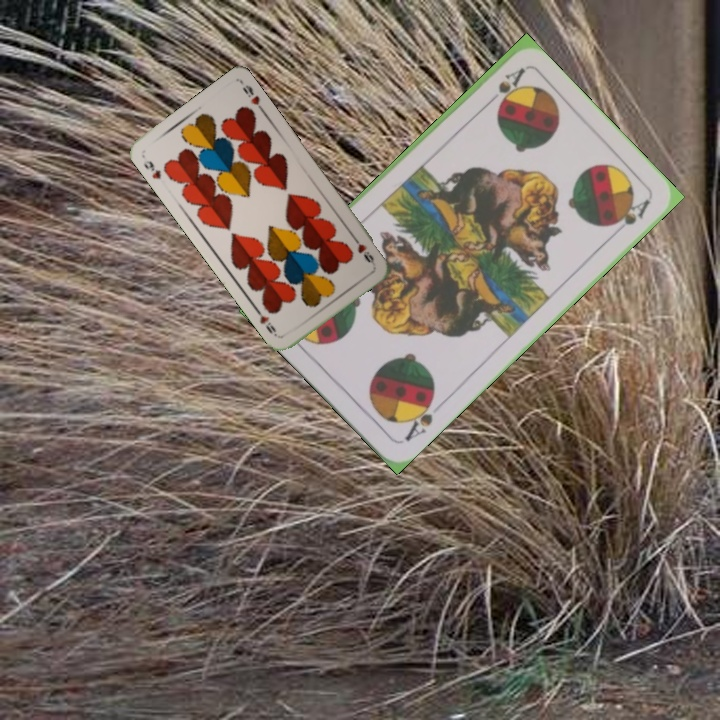H9: (348, 232, 377, 267), (139, 154, 164, 182)
SA: (480, 64, 527, 111), (400, 392, 437, 445)
